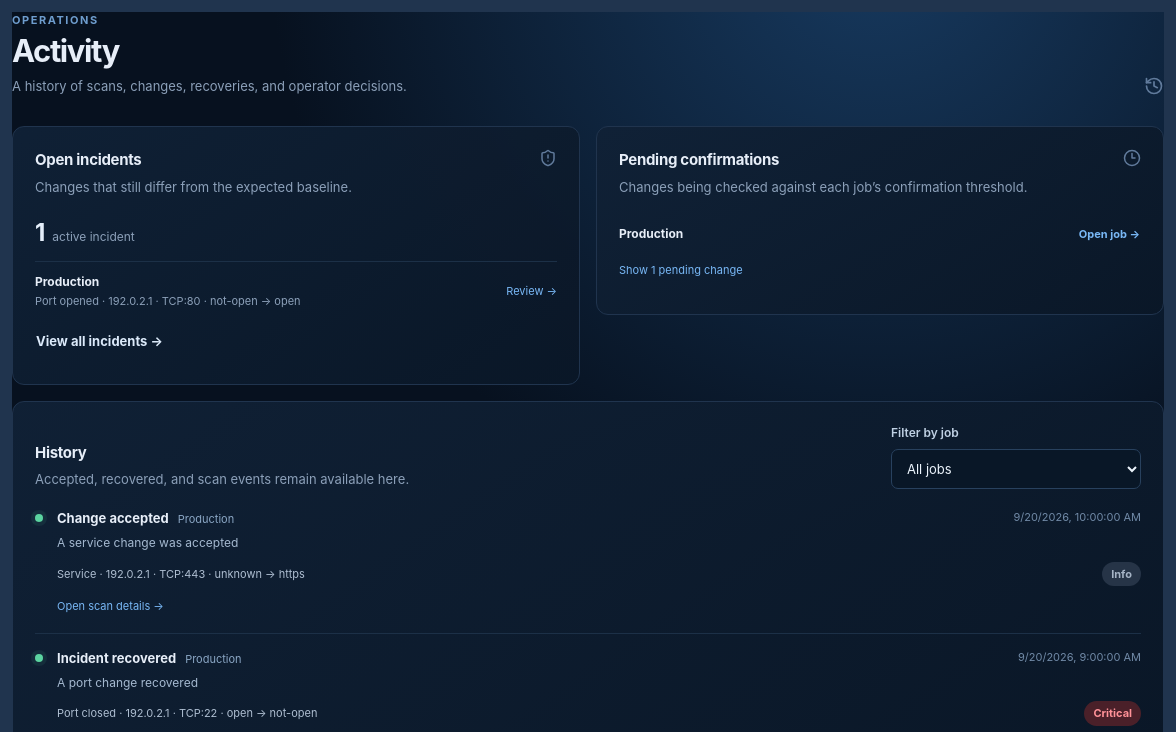
Test case: activity history › shows active, pending, accepted, and recovered change history with contextual links
Expected: the heading "Activity" is shown, [12,32,119,68]
Expected: the text "Change accepted" is shown, [57,509,169,529]
Click the button "Show 1 pending change": (681, 266) [619,254,743,278]
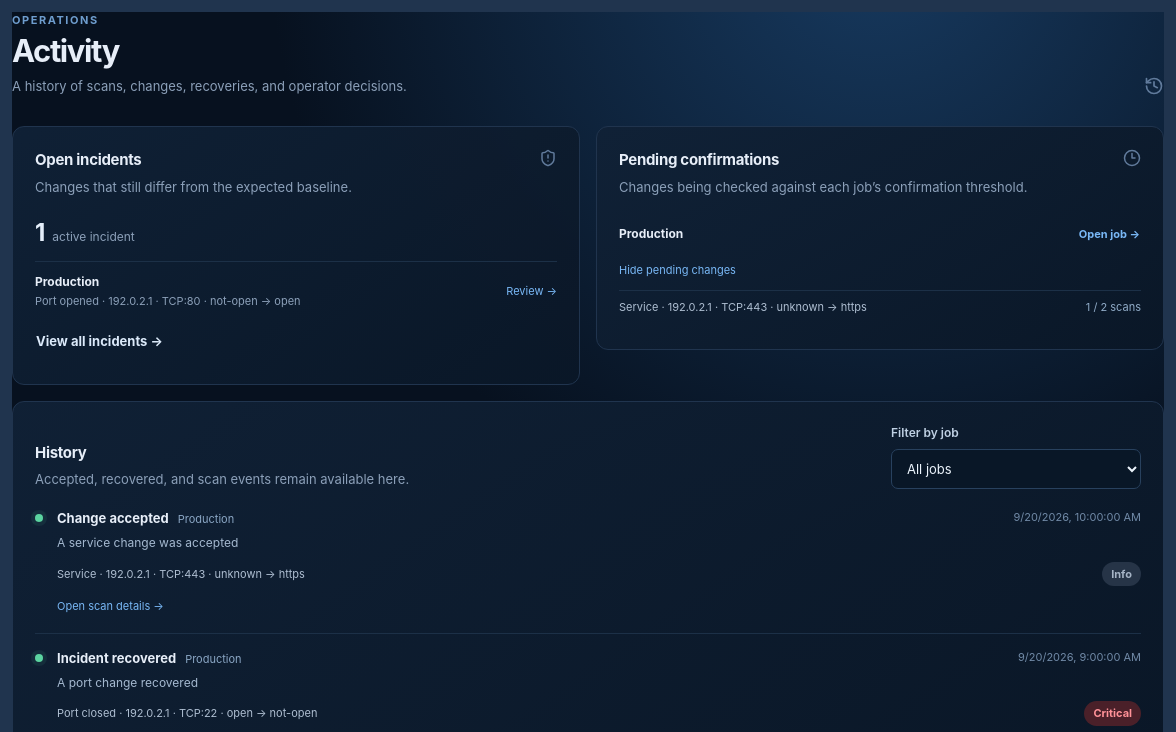
Now the text "1 / 2 scans" is shown, box [1086,298,1141,315]
